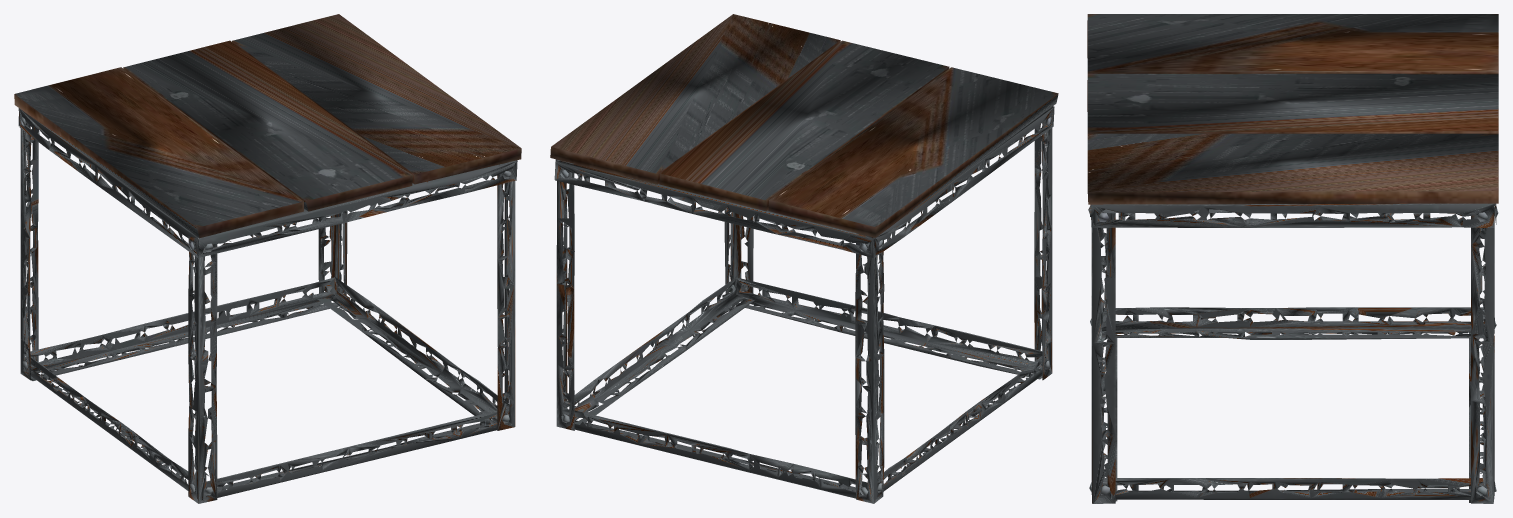
Rendered from industrial_coffee_table.glb.
3 views of the same model, side by side, from view 1: azimuth 30°, elevation 25°; view 2: azimuth 150°, elevation 25°; view 3: azimuth 270°, elevation 25° (orthographic). The views are drawn at different scales.
Parts seen in each view (by area): view 1: industrial_coffee_table; view 2: industrial_coffee_table; view 3: industrial_coffee_table.
Boxes of the visible parts, x1,y1,x2,y2 form: industrial_coffee_table: (14, 14, 521, 503); industrial_coffee_table: (550, 14, 1058, 503); industrial_coffee_table: (1087, 14, 1498, 503).
Size of the model in its own units: 0.7743 by 0.6375 by 0.755.
Materials: 1 (1 with a texture image).
